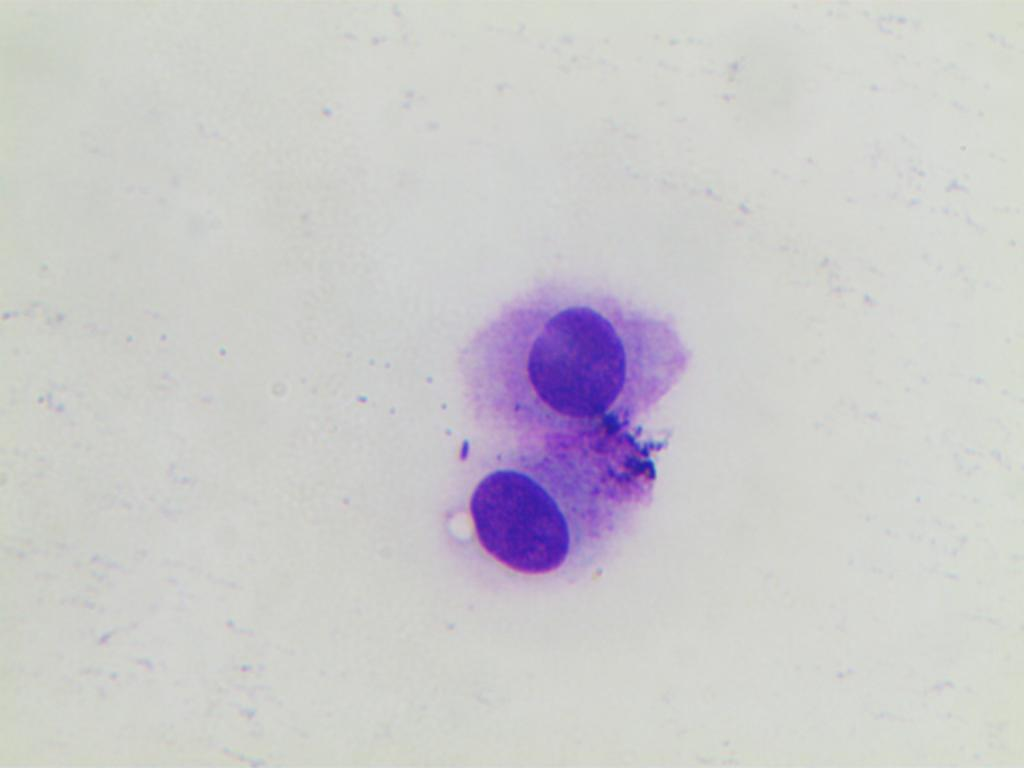epithelial: (452, 281, 693, 426), (462, 467, 574, 589)
